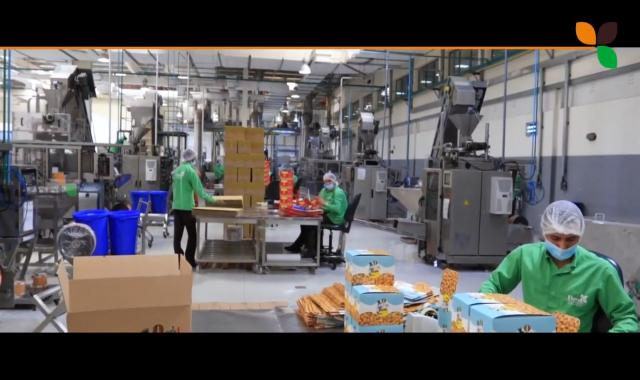hairnet: (539, 198, 585, 250), (182, 148, 195, 164), (324, 172, 336, 186)
